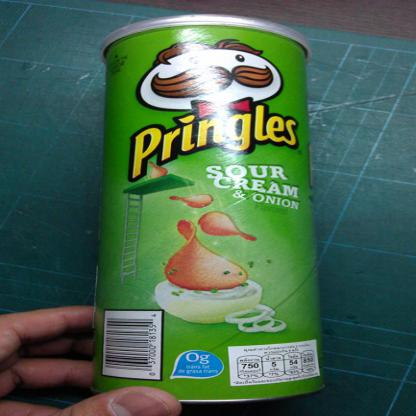potatochip: (87, 12, 330, 405)
